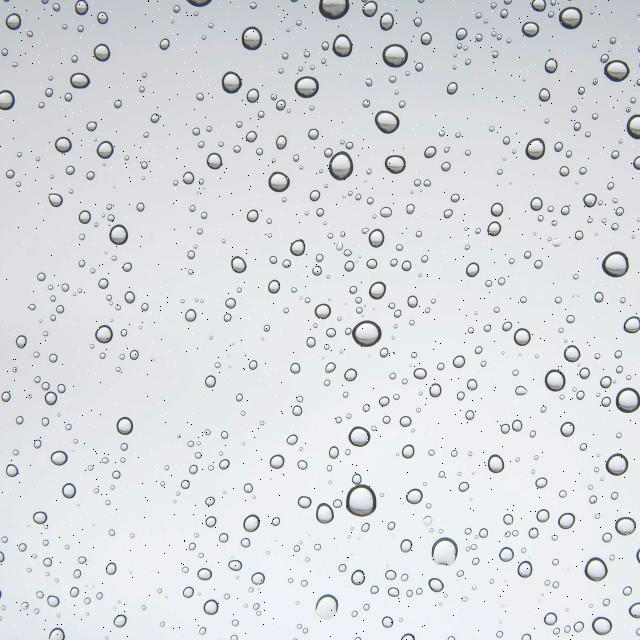raindrop: (346, 314, 388, 352), (342, 481, 381, 521), (429, 532, 465, 574), (597, 246, 636, 282), (310, 590, 348, 626), (326, 147, 359, 188), (379, 38, 413, 73), (103, 216, 134, 252), (289, 71, 325, 102), (371, 102, 401, 138), (519, 133, 551, 166), (84, 38, 118, 68), (601, 56, 636, 85), (582, 552, 610, 587), (235, 26, 270, 54), (66, 70, 101, 97), (361, 277, 393, 306), (378, 151, 412, 177), (280, 232, 312, 259), (331, 29, 356, 63), (266, 166, 292, 198), (613, 387, 640, 417), (555, 6, 585, 33), (345, 424, 376, 450), (93, 320, 119, 350), (554, 508, 582, 535), (111, 415, 140, 441), (92, 137, 119, 164), (510, 324, 535, 352), (314, 498, 338, 527), (543, 366, 567, 395), (605, 450, 628, 480), (423, 573, 453, 595), (614, 515, 640, 540), (218, 70, 243, 96), (486, 454, 513, 478), (45, 134, 75, 155), (589, 615, 616, 638), (513, 558, 535, 586), (311, 299, 337, 322), (110, 607, 133, 632), (48, 448, 73, 471), (45, 189, 68, 214), (400, 486, 427, 507), (4, 9, 26, 34), (204, 145, 221, 177), (496, 543, 519, 566), (242, 513, 264, 537), (181, 163, 200, 190), (229, 253, 252, 275), (462, 258, 484, 281), (564, 342, 585, 366), (622, 311, 640, 339), (36, 624, 67, 640), (533, 501, 552, 526), (29, 506, 50, 528), (3, 459, 23, 482), (41, 387, 63, 407), (268, 450, 288, 471), (194, 566, 217, 584), (226, 553, 242, 578), (61, 481, 81, 501), (265, 277, 285, 297), (349, 570, 370, 589), (202, 372, 221, 393), (247, 571, 269, 589), (384, 582, 402, 603), (559, 419, 577, 440), (380, 614, 399, 633), (203, 598, 224, 615), (543, 609, 560, 629), (202, 513, 222, 530), (102, 559, 119, 579), (45, 593, 64, 610), (626, 600, 640, 622), (215, 528, 233, 545), (75, 210, 91, 227), (456, 480, 472, 496), (40, 554, 54, 570), (182, 584, 196, 600), (68, 585, 81, 599)
